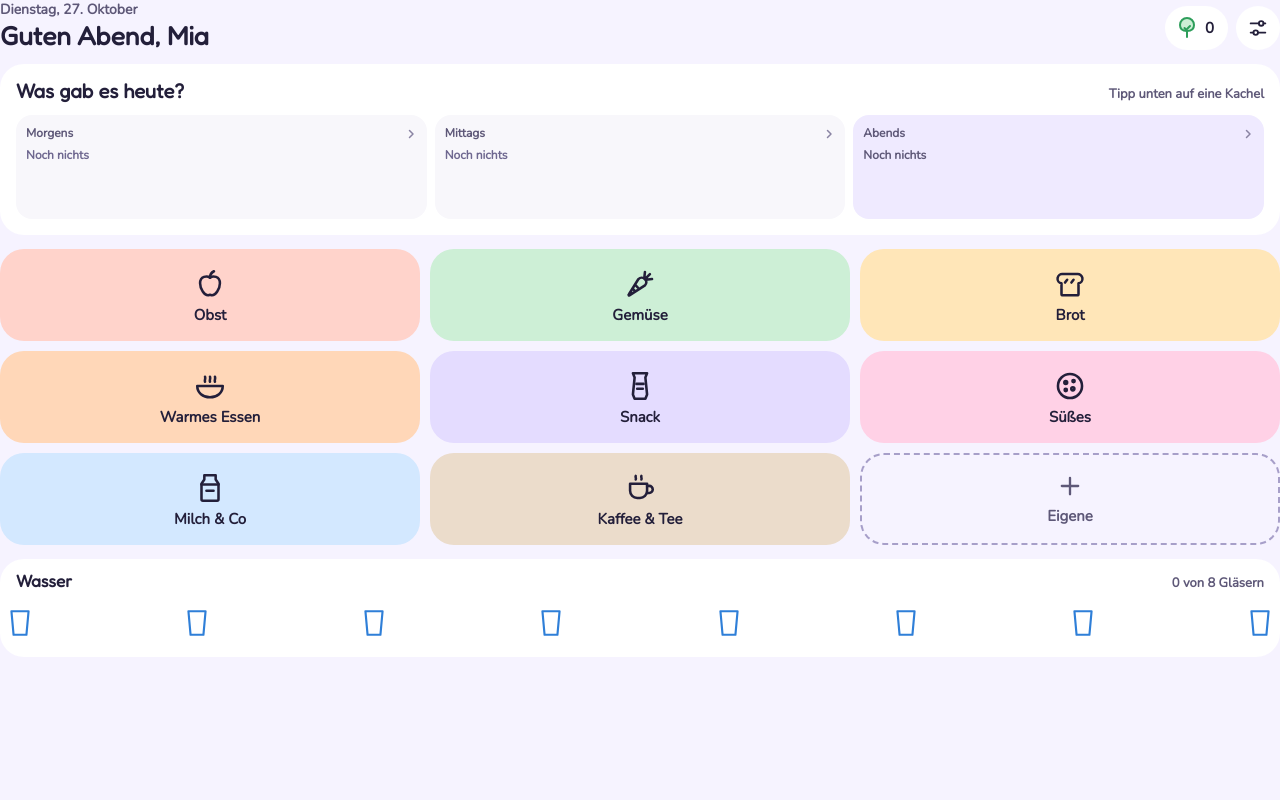
Test: TodayView › describe mode opens the sheet; "Speichern" saves note and mood
Click the button "Warmes Essen" at x=210, y=397, box [0, 351, 420, 443]
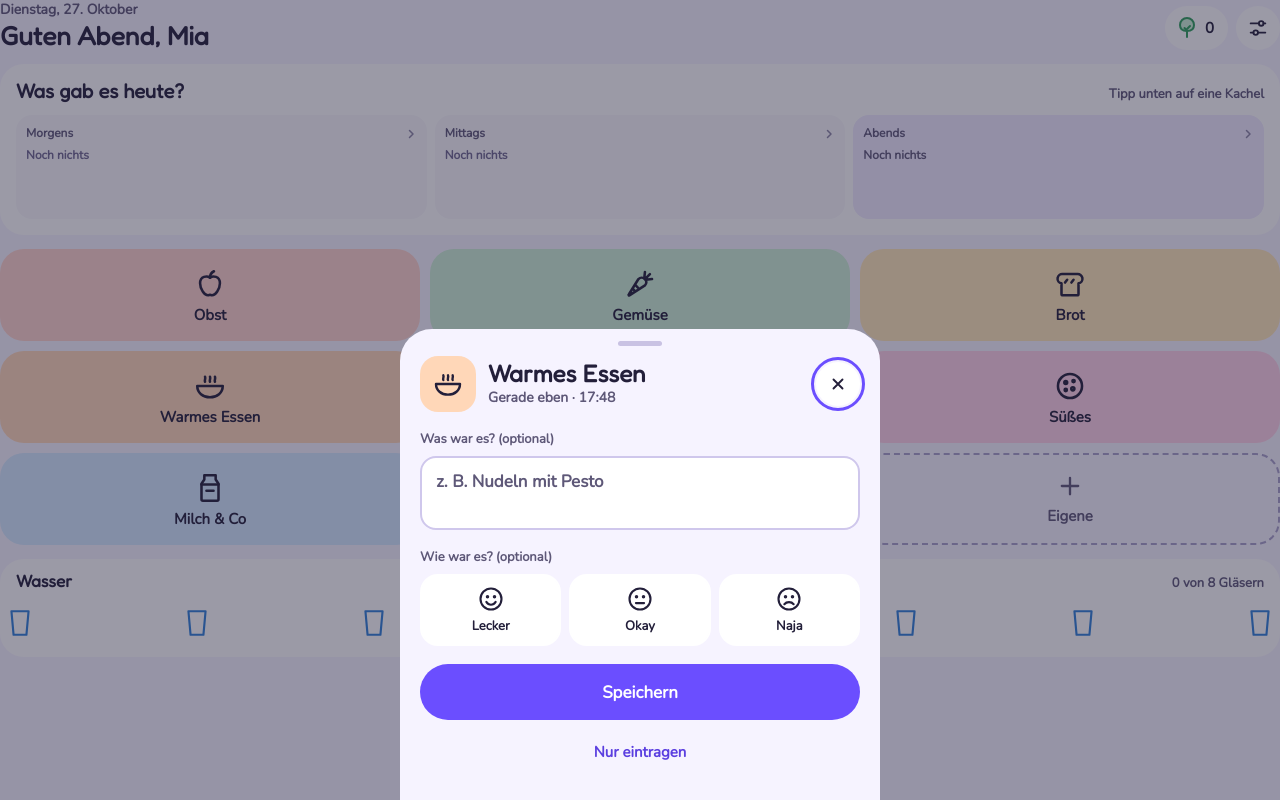
expect the dialog is shown: met, box [400, 329, 880, 799]
expect the heading "Warmes Essen" is shown: met, box [488, 359, 646, 388]
expect the dialog shows "Gerade eben": met, box [488, 388, 615, 407]
Type "Nudeln mit Pesto" into the text box labelled "Was war es? (optional)" at x=640, y=493, box [420, 456, 860, 530]
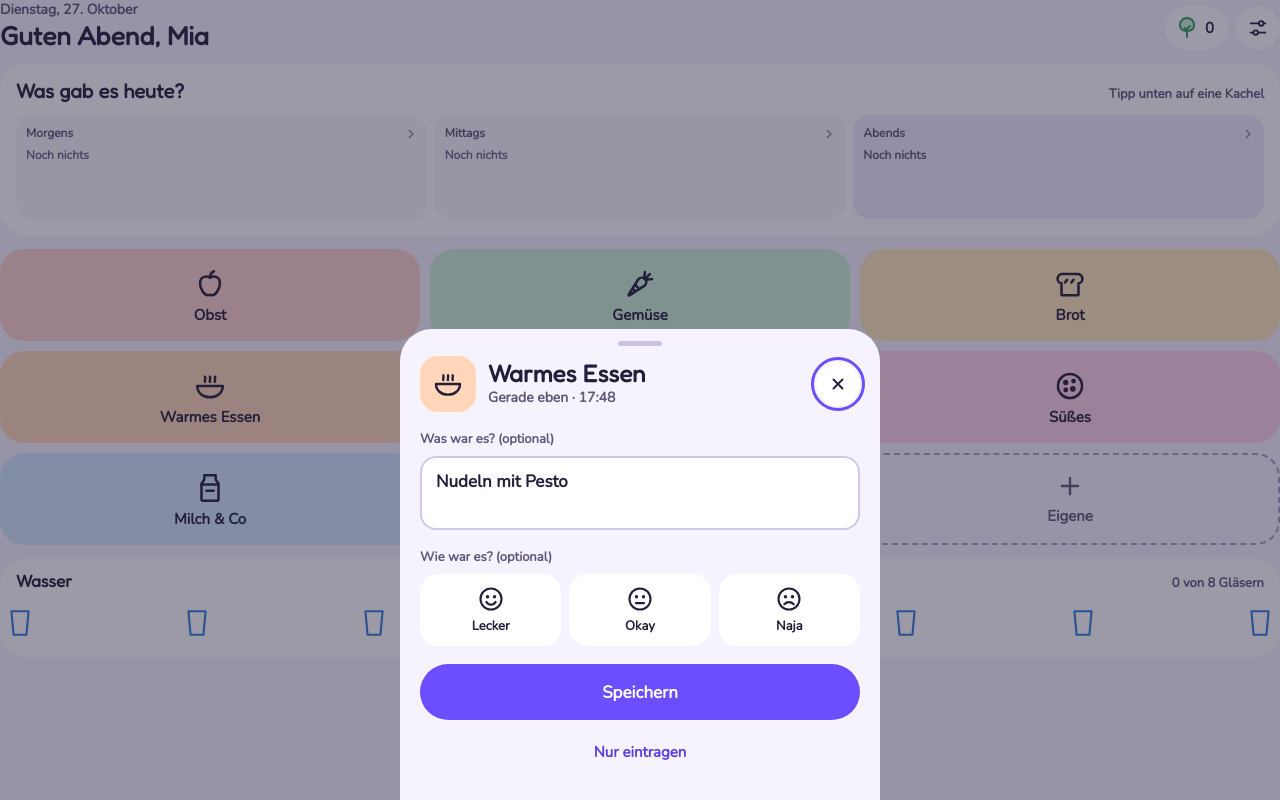
expect the button "Lecker" is shown: met
Click the button "Lecker" at x=491, y=610, box [420, 574, 561, 646]
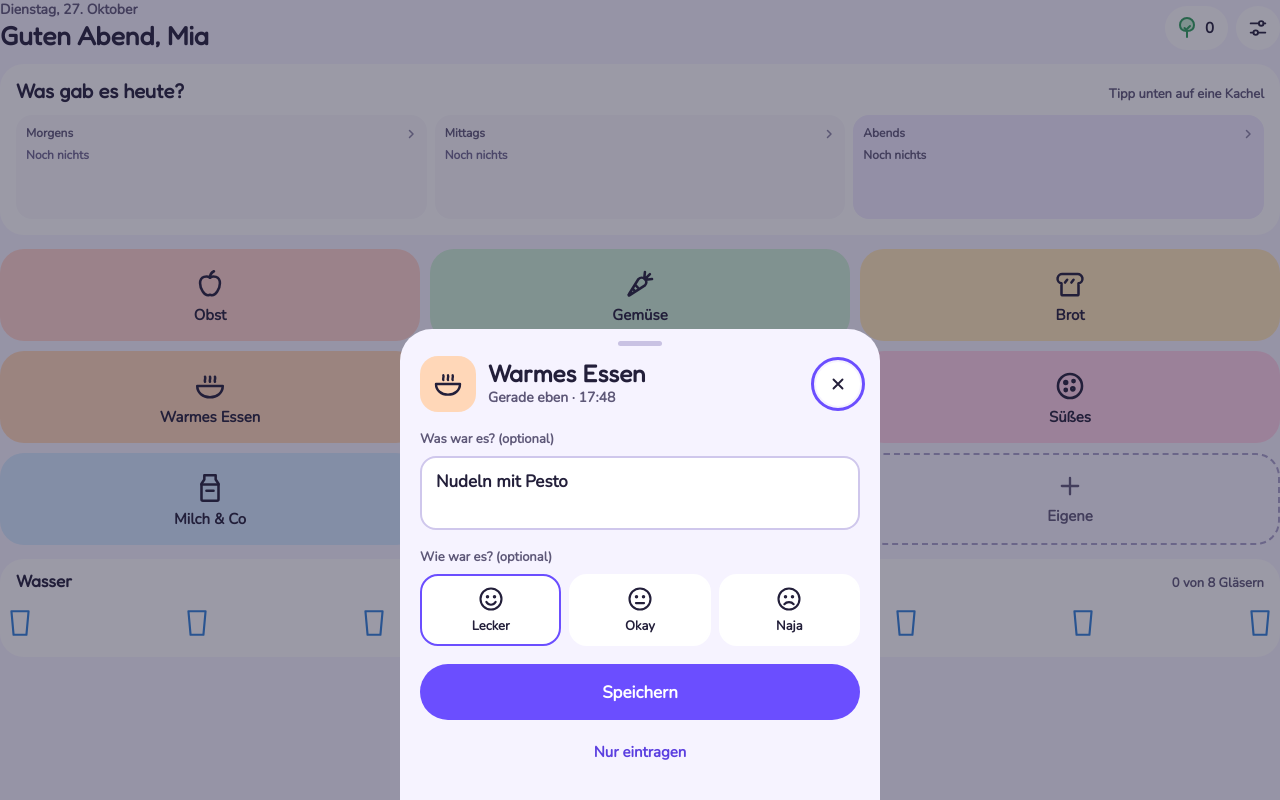
expect the button with test id "describe-save" is shown: met
Click the button with test id "describe-save" at x=640, y=692, box [420, 664, 860, 720]
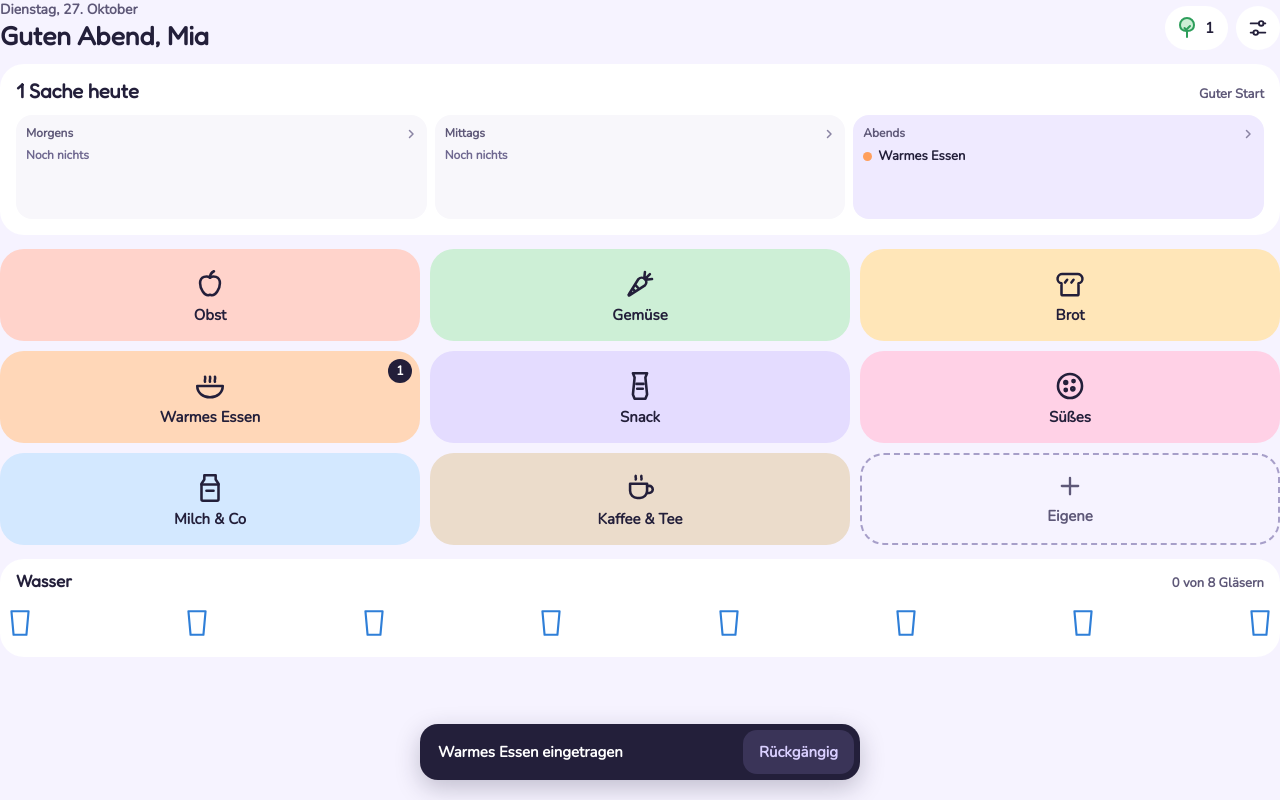
expect the text with class "toast__text" reads "Warmes Essen eingetragen": met, box [438, 742, 623, 762]
